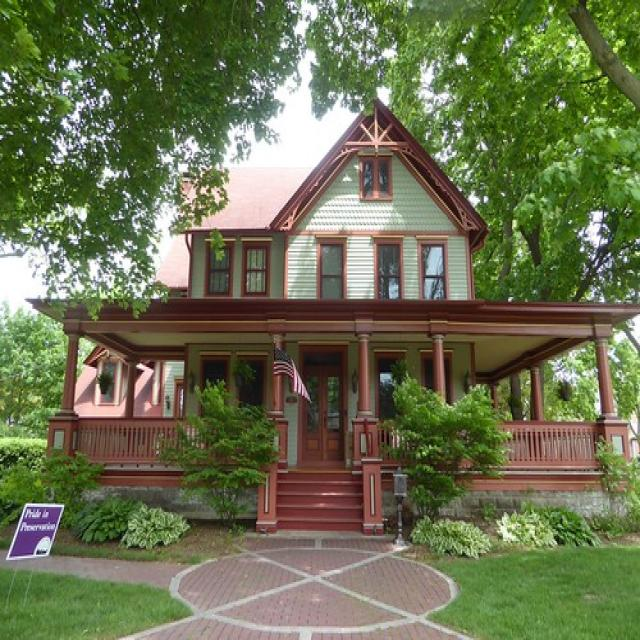building: (22, 97, 638, 550)
